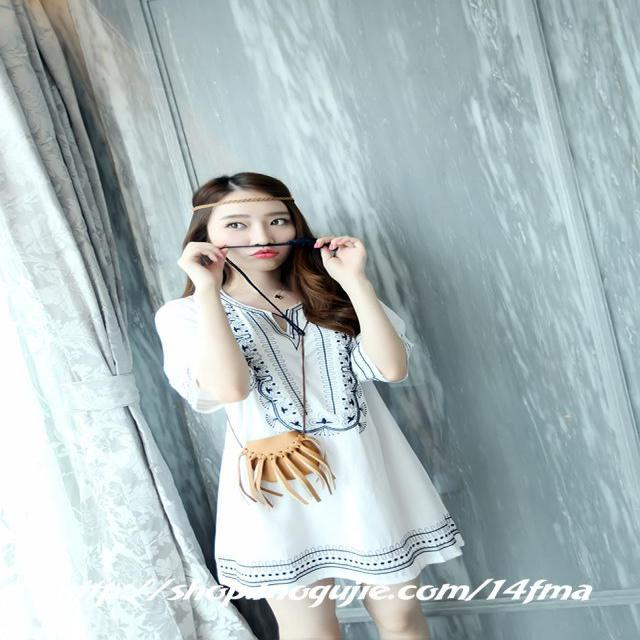short sleeve dress: (158, 270, 464, 587)
